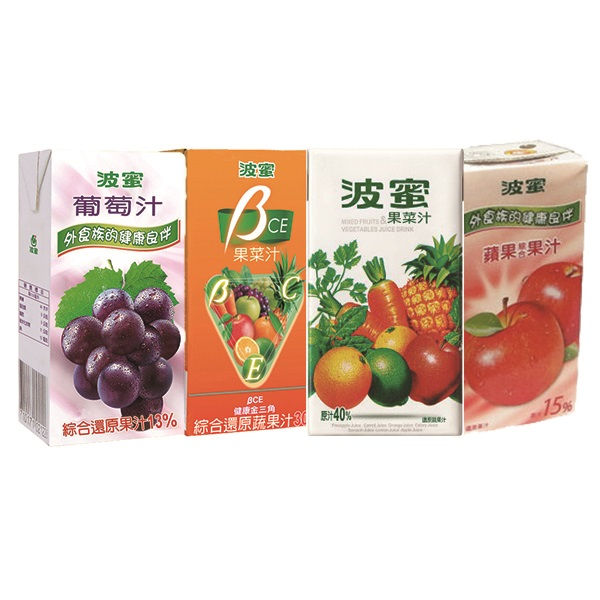vegetables juice: (300, 138, 465, 454)
